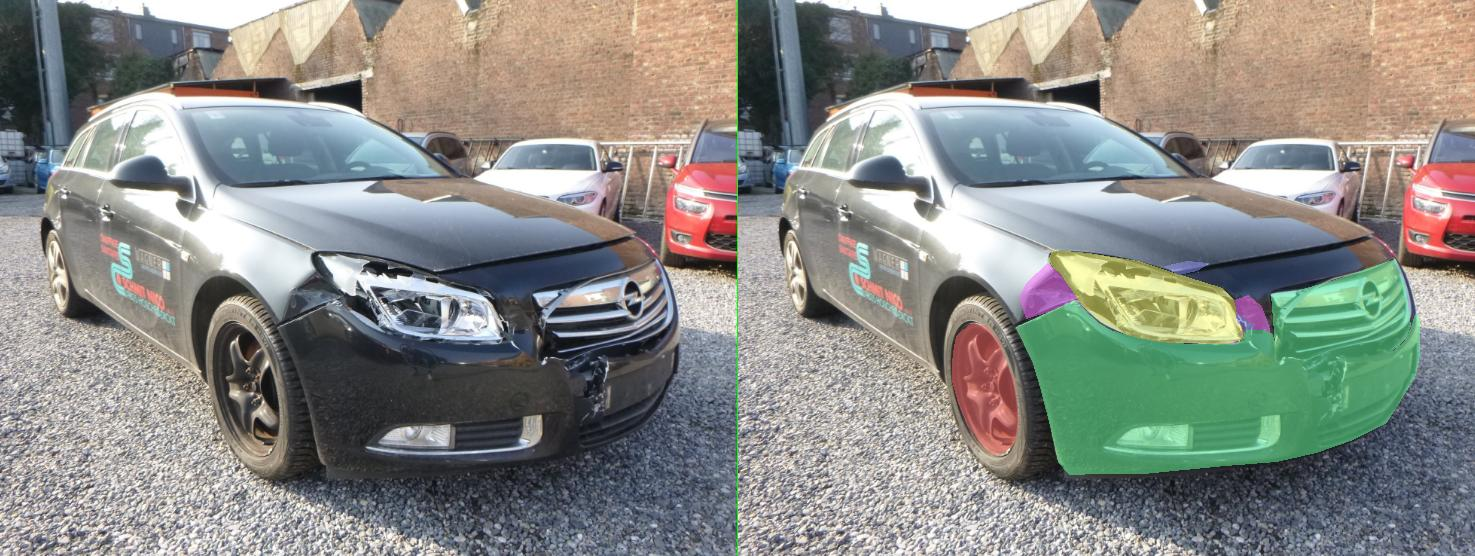Broken part: (556, 300, 1363, 474), (1067, 259, 1345, 372)
Cracked: (620, 250, 1013, 344)
Dent: (961, 295, 1069, 364), (562, 263, 678, 318)
Missing part: (428, 323, 560, 453)
Scratch: (658, 311, 706, 336), (853, 261, 941, 274), (997, 314, 1035, 336), (1017, 337, 1047, 354), (656, 301, 694, 311)
